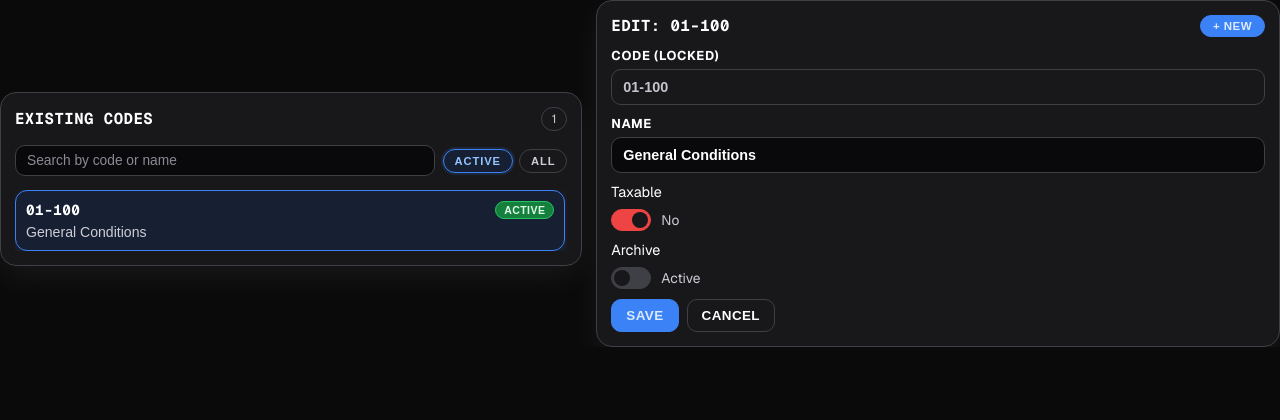
CostCodesConsole › saves an edited cost code via PATCH
Expected: the text "01-100" is shown, [26, 201, 80, 219]
Expected: the heading "Edit: 01-100" is shown, [611, 17, 730, 35]
Replace the text in the field labelled "Name" with "Updated Name" at (938, 155), box [611, 137, 1265, 173]
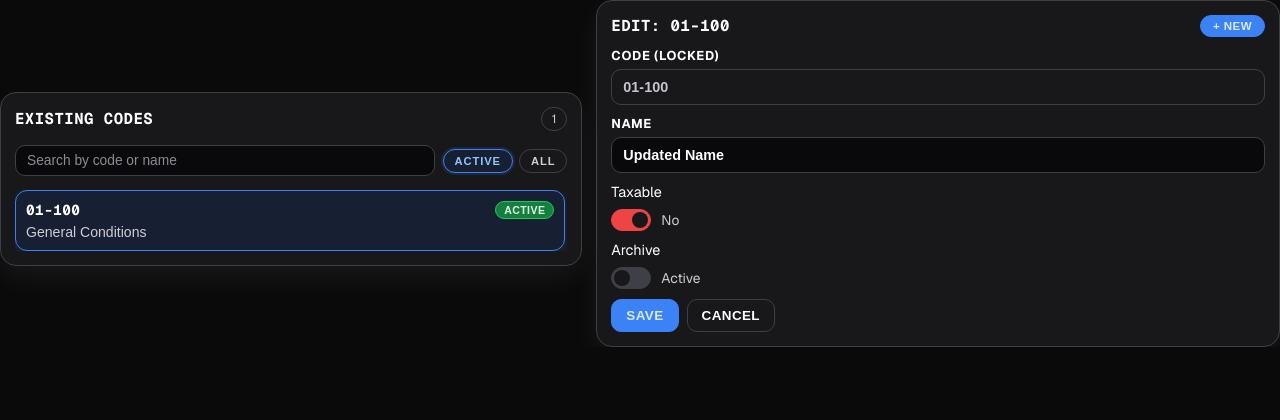
Click the button "Save".
click(645, 316)  # box [611, 299, 679, 332]
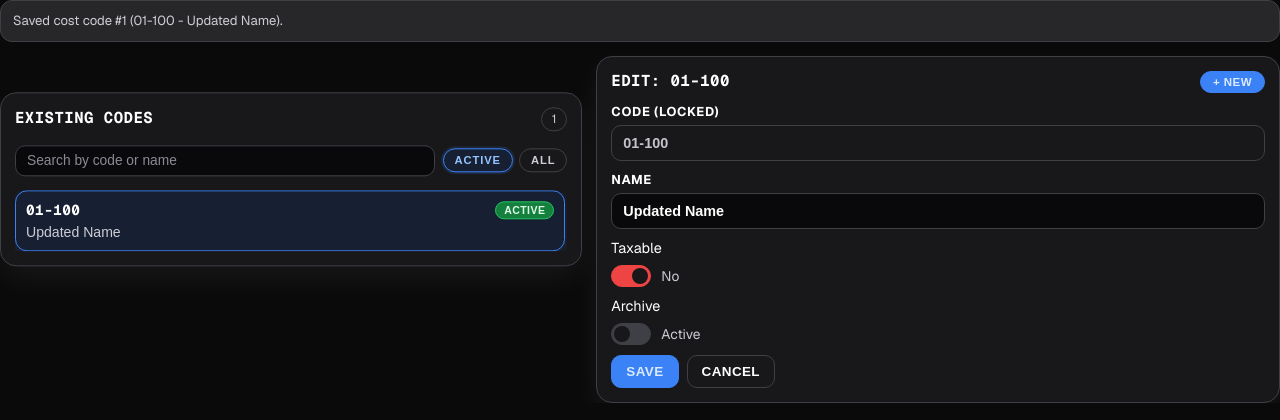
Expected: the text "Saved cost code #1 (01-100 - Updated Name)." is shown, [0, 0, 1279, 42]
